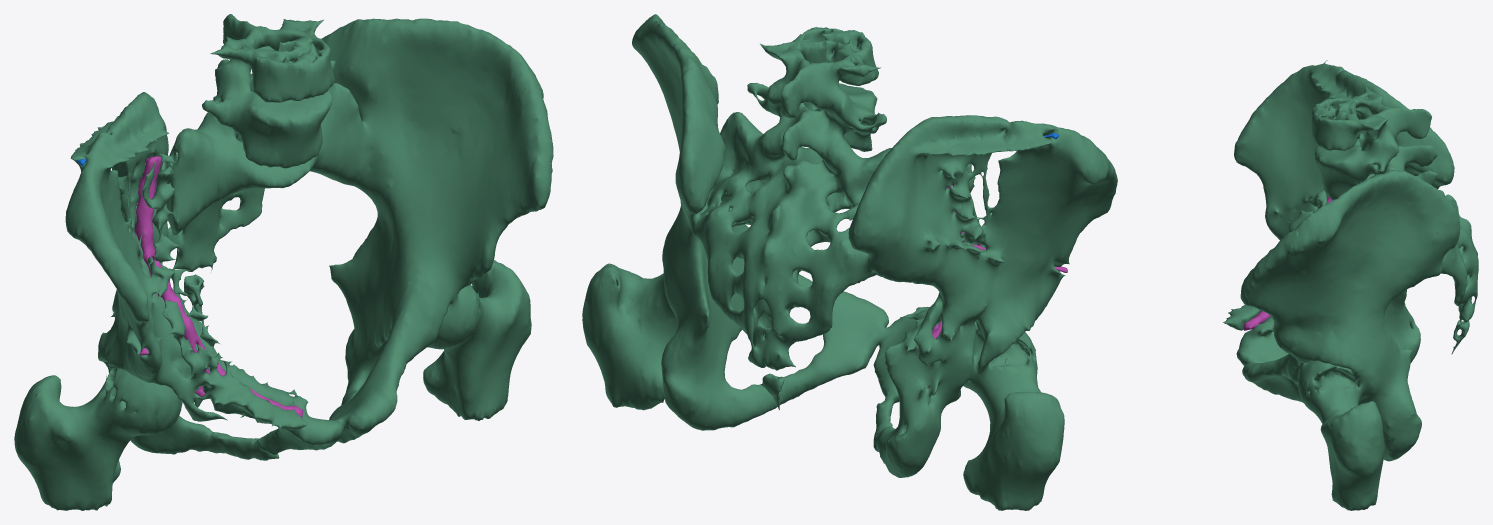
The model's file is pelvis.glb.
The picture shows the model from 3 angles, left to right: view 1: azimuth 30°, elevation 25°; view 2: azimuth 150°, elevation 25°; view 3: azimuth 270°, elevation 25°; orthographic projection. The views are drawn at different scales.
Visible parts, largest first — view 1: Object_2, Object_3, Object_4, Object_5; view 2: Object_2, Object_3, Object_4; view 3: Object_2, Object_3, Object_4.
Part boxes in pixels (x1,y1,x2,y2): Object_2: (60, 14, 553, 509); Object_3: (14, 91, 531, 510); Object_4: (65, 57, 552, 321); Object_5: (134, 156, 303, 417); Object_2: (582, 14, 1117, 477); Object_3: (582, 110, 1079, 510); Object_4: (648, 52, 1117, 285); Object_2: (1223, 60, 1478, 510); Object_3: (1230, 143, 1477, 507); Object_4: (1234, 67, 1471, 314).
Bounding box in the file's own units: 304 × 225 × 192.
